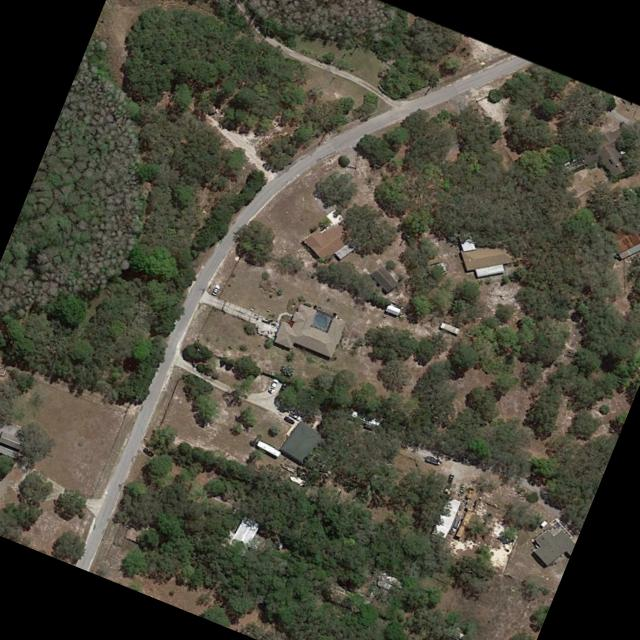large-vehicle: (287, 409, 301, 420), (424, 454, 441, 463)
small-vehicle: (140, 445, 154, 457), (282, 414, 294, 424), (210, 283, 220, 294), (268, 376, 277, 388), (446, 471, 454, 483)
